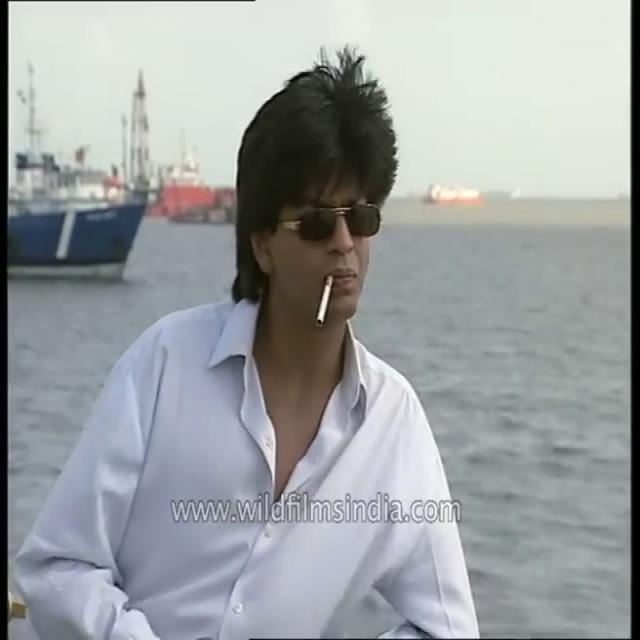Smooking: (314, 270, 332, 329)
